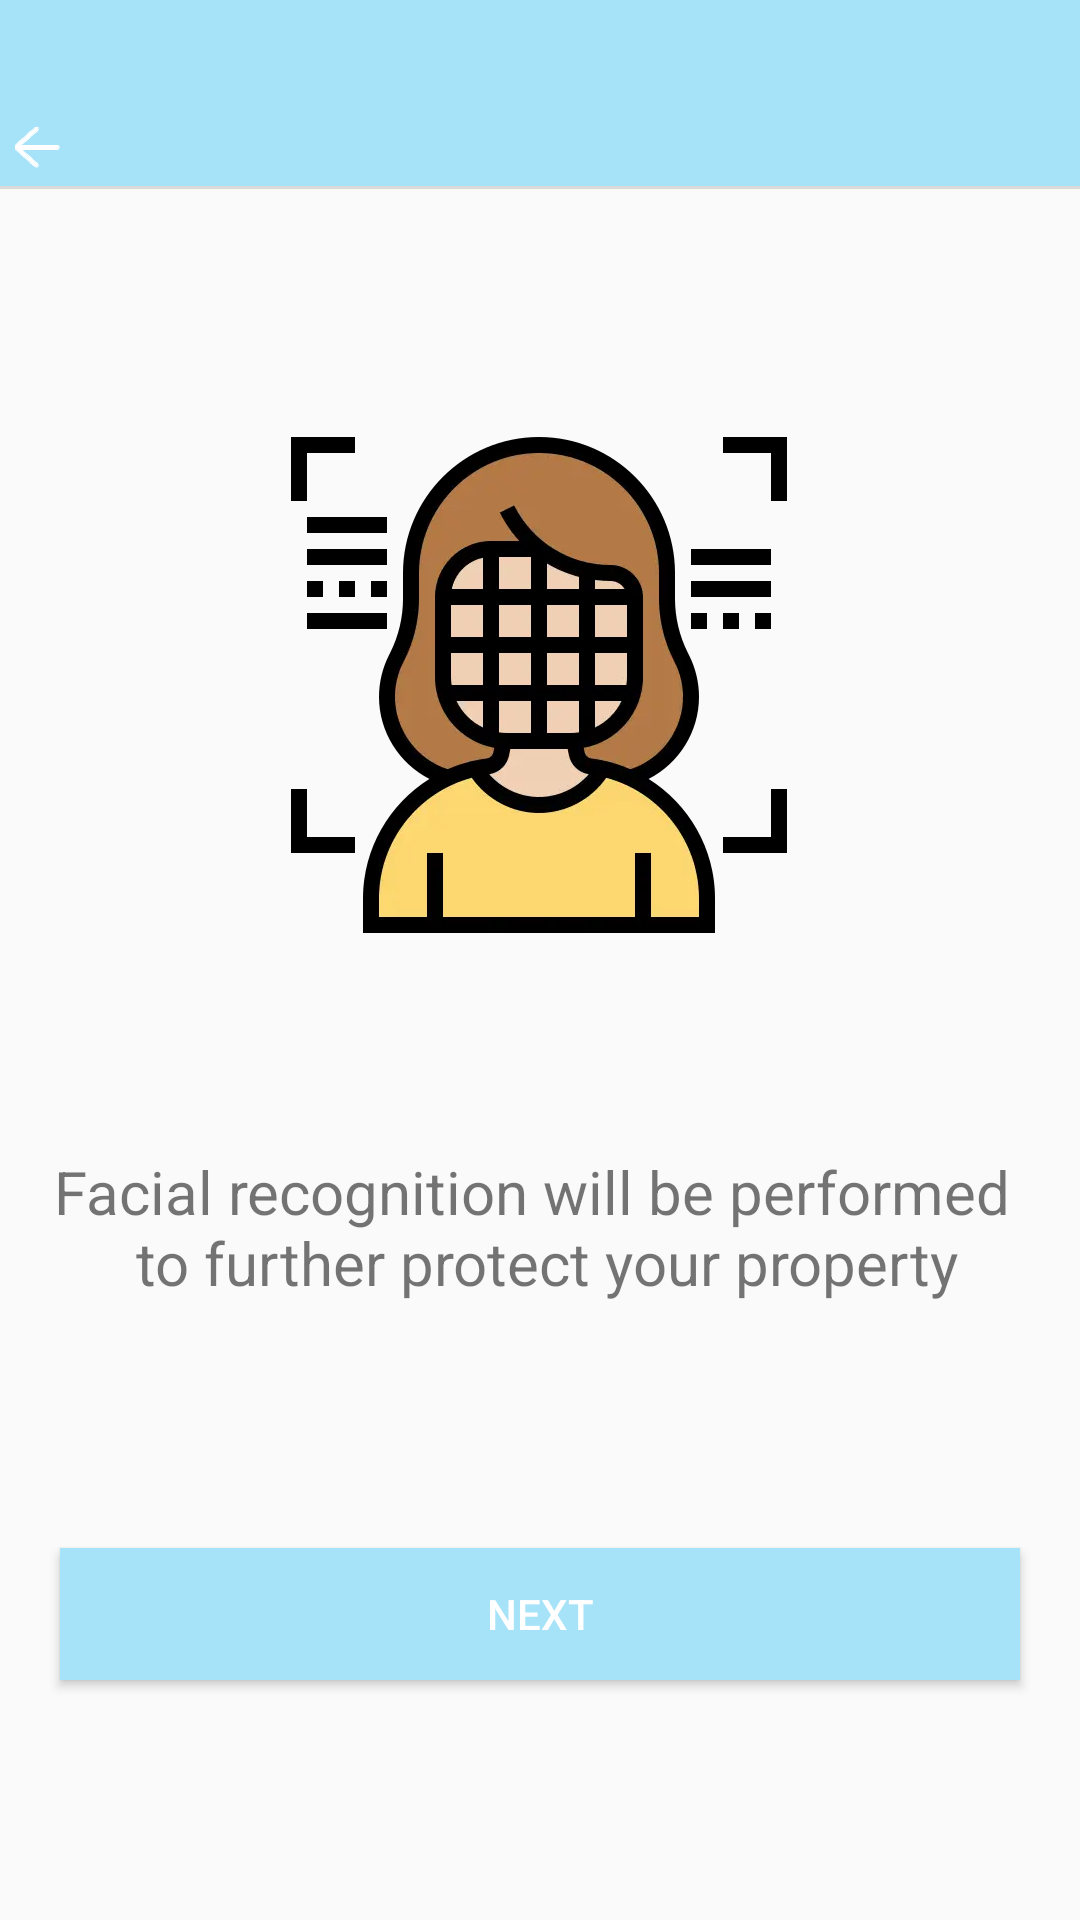

Icon bounding boxes for this 1080 × 1920 phone screenshot, format (x1, y1, x2, y2):
paisa back: (15, 127, 60, 168)
